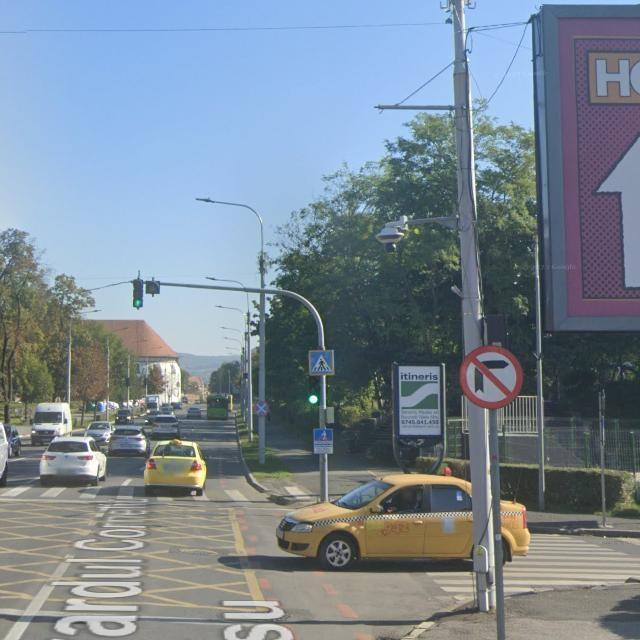forb_waiting: (255, 400, 270, 416)
info_crosswalk: (308, 349, 334, 375)
